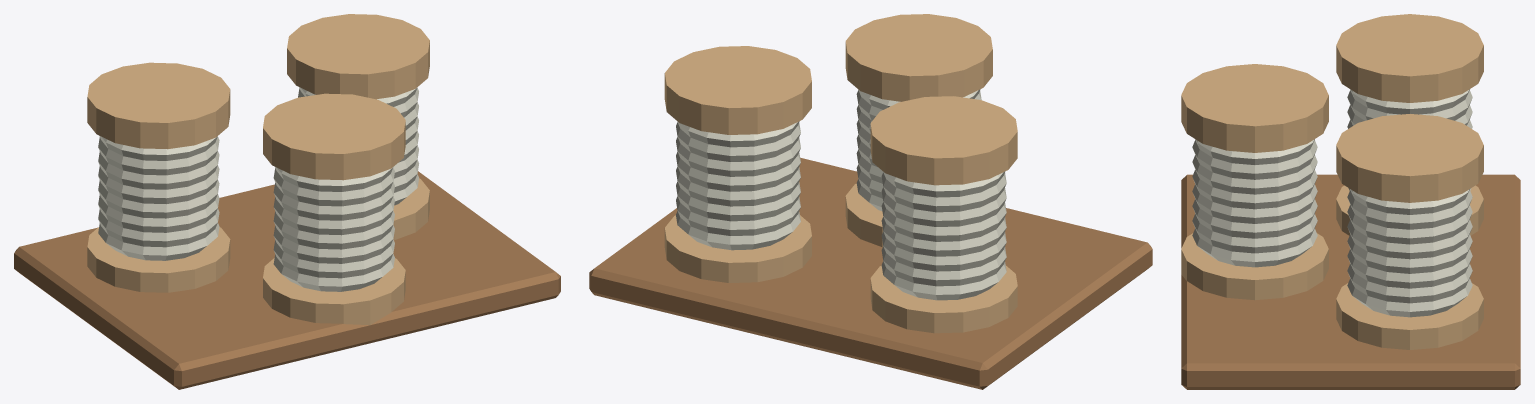
3 renders of one model, left to right at view 1: azimuth 30°, elevation 25°; view 2: azimuth 150°, elevation 25°; view 3: azimuth 270°, elevation 25°, orthographic. The views are drawn at different scales.
Parts seen in each view (by area): view 1: textile-yarn-spools-01; view 2: textile-yarn-spools-01; view 3: textile-yarn-spools-01.
Part boxes in pixels (bbox=[...]): textile-yarn-spools-01: bbox=[14, 14, 560, 389]; textile-yarn-spools-01: bbox=[589, 14, 1152, 389]; textile-yarn-spools-01: bbox=[1181, 14, 1520, 389].
Bounding box in the file's own units: 0.62 × 0.3 × 0.46.
